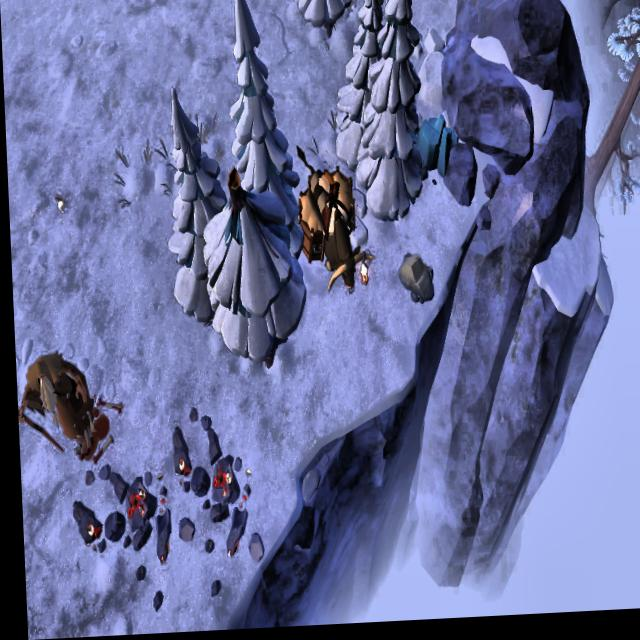enemy_factionKeeper: (13, 345, 105, 468)
rock_t4: (411, 113, 458, 187)
